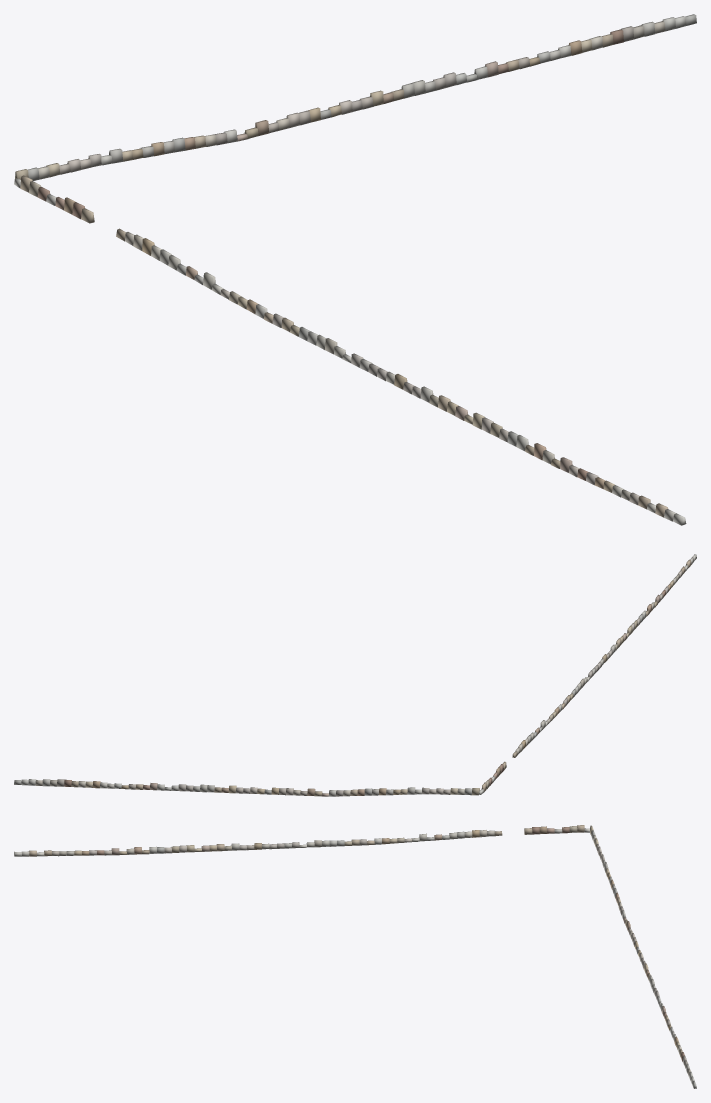
The model's file is farm_-4_11_far.glb.
The picture shows the model from 3 angles, top to bottom: view 1: azimuth 30°, elevation 25°; view 2: azimuth 150°, elevation 25°; view 3: azimuth 270°, elevation 25°; orthographic projection. The views are drawn at different scales.
Parts seen in each view (by area): view 1: geometry_0; view 2: geometry_0; view 3: geometry_0.
Boxes of the visible parts, x1,y1,x2,y2 form: geometry_0: [14, 14, 696, 525]; geometry_0: [14, 554, 696, 796]; geometry_0: [14, 825, 696, 1088].
Size of the model in its own units: 102 by 15.79 by 144.
